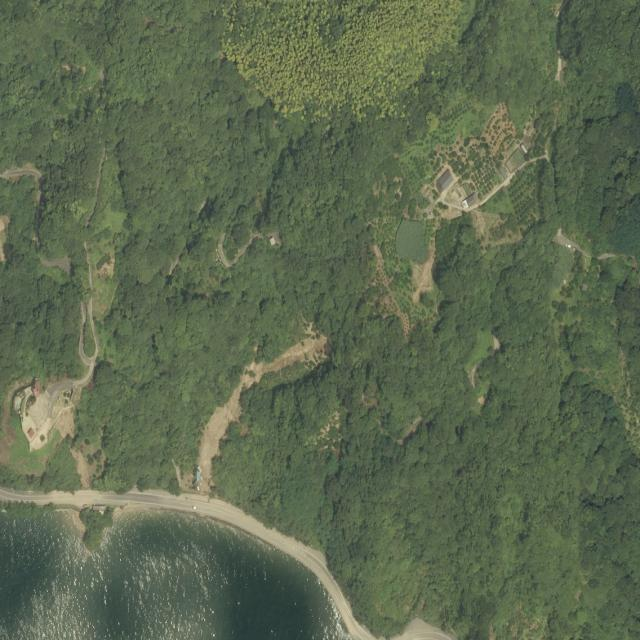landslide: (189, 336, 336, 499)
